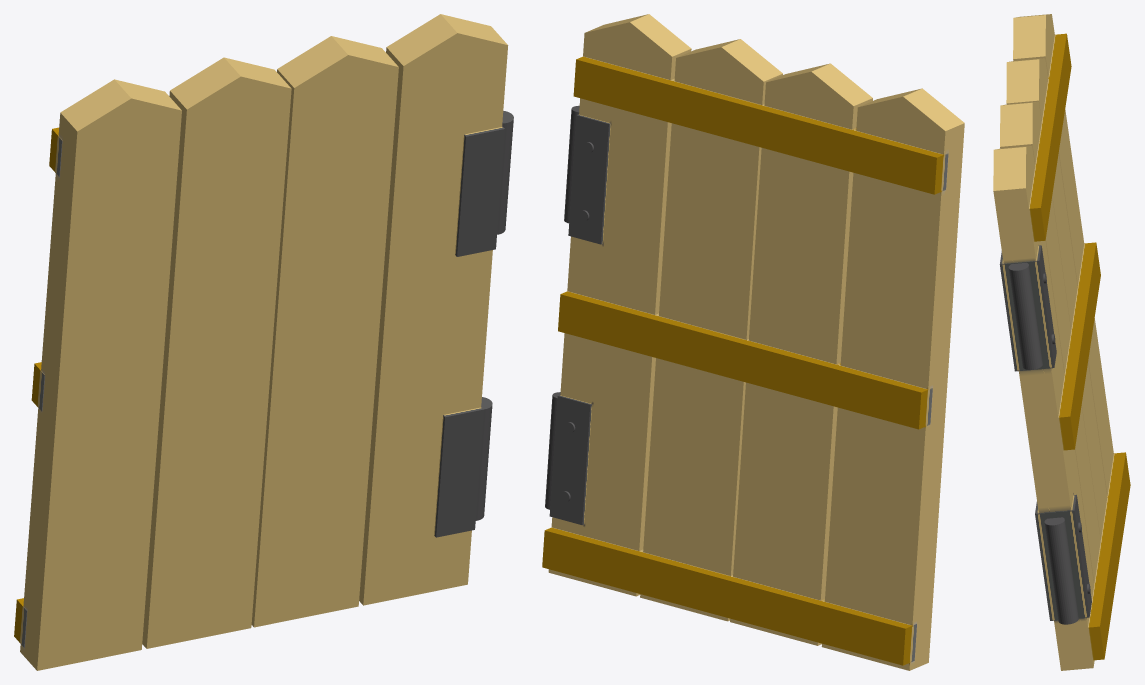
Rendered from fencedoor1.fbx.
3 renders of one model, left to right at view 1: azimuth 30°, elevation 25°; view 2: azimuth 150°, elevation 25°; view 3: azimuth 270°, elevation 25°, orthographic. The views are drawn at different scales.
Parts seen in each view (by area): view 1: node_id12, node_id10, node_id8, node_id6, node_id18, node_id20, node_id16, node_id14; view 2: node_id12, node_id10, node_id8, node_id6, node_id24, node_id22, node_id26, node_id18, node_id20, node_id16, node_id14; view 3: node_id6, node_id12, node_id8, node_id10, node_id22, node_id26, node_id24, node_id18, node_id20, node_id14, node_id16.
Boxes of the visible parts, x1,y1,x2,y2 form: node_id12: [20, 79, 181, 670]; node_id10: [142, 57, 291, 648]; node_id8: [251, 36, 398, 627]; node_id6: [359, 14, 508, 605]; node_id18: [434, 407, 483, 537]; node_id20: [455, 126, 504, 256]; node_id16: [497, 111, 513, 234]; node_id14: [475, 397, 492, 520]; node_id12: [821, 88, 964, 670]; node_id10: [730, 63, 872, 645]; node_id8: [640, 39, 782, 621]; node_id6: [548, 14, 691, 596]; node_id24: [542, 527, 916, 665]; node_id22: [558, 291, 932, 429]; node_id26: [573, 56, 948, 194]; node_id18: [549, 395, 592, 525]; node_id20: [568, 114, 610, 244]; node_id16: [564, 105, 579, 223]; node_id14: [545, 392, 560, 509]; node_id6: [993, 146, 1094, 670]; node_id12: [1013, 14, 1113, 495]; node_id8: [1000, 101, 1100, 583]; node_id10: [1006, 58, 1107, 539]; node_id22: [1058, 242, 1100, 450]; node_id26: [1029, 33, 1071, 241]; node_id24: [1088, 452, 1130, 660]; node_id18: [1035, 494, 1091, 620]; node_id20: [999, 245, 1056, 371]; node_id14: [1044, 517, 1078, 624]; node_id16: [1008, 262, 1042, 369].
Bounding box in the file's own units: 0.3615 × 0.477 × 0.1171.
Materials: 16 (16 with a texture image).
